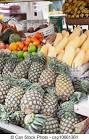Pineapple: (21, 77, 46, 114), (55, 63, 76, 100), (39, 55, 62, 87), (28, 52, 46, 83)
